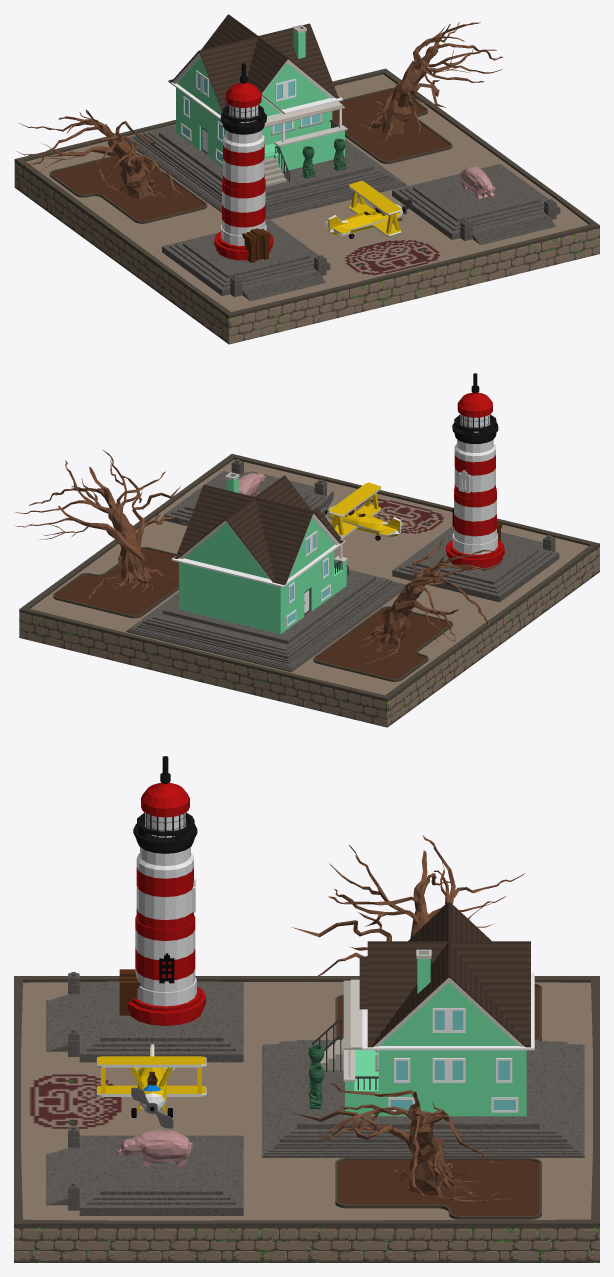
3 views of the same model, one above another, from view 1: azimuth 30°, elevation 25°; view 2: azimuth 150°, elevation 25°; view 3: azimuth 270°, elevation 25° (orthographic). The views are drawn at different scales.
Parts seen in each view (by area): view 1: Cube.011, Cube.352, OBJRANDOM_LIGHTHOUSE, VEHICLES_AIRPLANE, ANIMAL_HIPOPOTAMO; view 2: Cube.011, Cube.352, OBJRANDOM_LIGHTHOUSE, VEHICLES_AIRPLANE, ANIMAL_HIPOPOTAMO; view 3: Cube.011, Cube.352, OBJRANDOM_LIGHTHOUSE, VEHICLES_AIRPLANE, ANIMAL_HIPOPOTAMO.
Boxes of the visible parts, bbox=[...] form: Cube.011: bbox=[14, 22, 599, 344]; Cube.352: bbox=[168, 14, 347, 186]; OBJRANDOM_LIGHTHOUSE: bbox=[214, 63, 273, 263]; VEHICLES_AIRPLANE: bbox=[325, 180, 412, 238]; ANIMAL_HIPOPOTAMO: bbox=[460, 166, 495, 198]; Cube.011: bbox=[15, 450, 599, 727]; Cube.352: bbox=[171, 472, 348, 634]; OBJRANDOM_LIGHTHOUSE: bbox=[446, 373, 504, 568]; VEHICLES_AIRPLANE: bbox=[322, 482, 403, 540]; ANIMAL_HIPOPOTAMO: bbox=[238, 473, 265, 496]; Cube.011: bbox=[14, 835, 599, 1262]; Cube.352: bbox=[312, 902, 534, 1116]; OBJRANDOM_LIGHTHOUSE: bbox=[119, 756, 205, 1025]; VEHICLES_AIRPLANE: bbox=[96, 1044, 206, 1128]; ANIMAL_HIPOPOTAMO: bbox=[116, 1130, 192, 1167].
Bounding box in the file's own units: 5099 × 2398 × 4000.
Materials: 42 (6 with a texture image).
